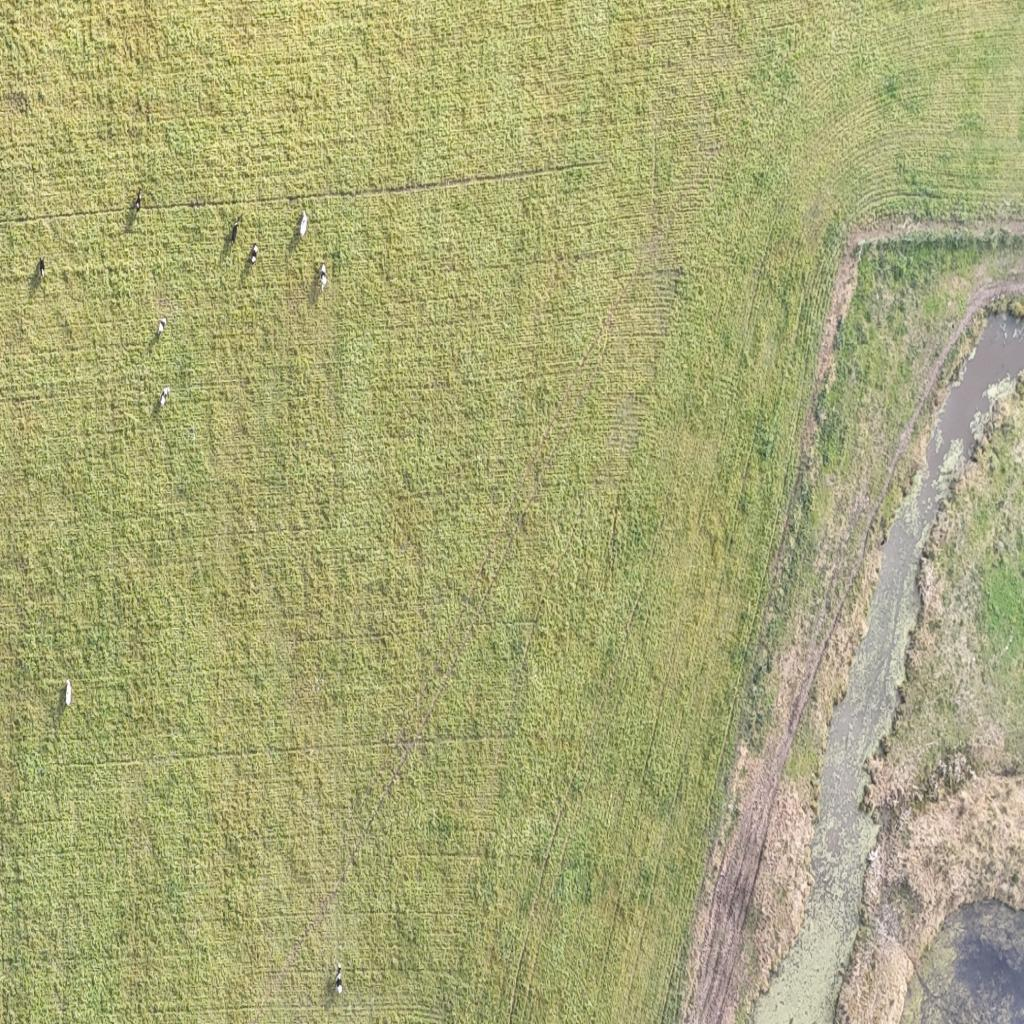cow: (299, 210, 308, 237), (334, 964, 342, 994), (319, 262, 327, 290), (160, 386, 170, 408), (134, 188, 142, 213), (65, 679, 72, 707), (231, 221, 239, 244), (250, 244, 258, 266), (158, 316, 166, 336), (38, 257, 45, 279)
